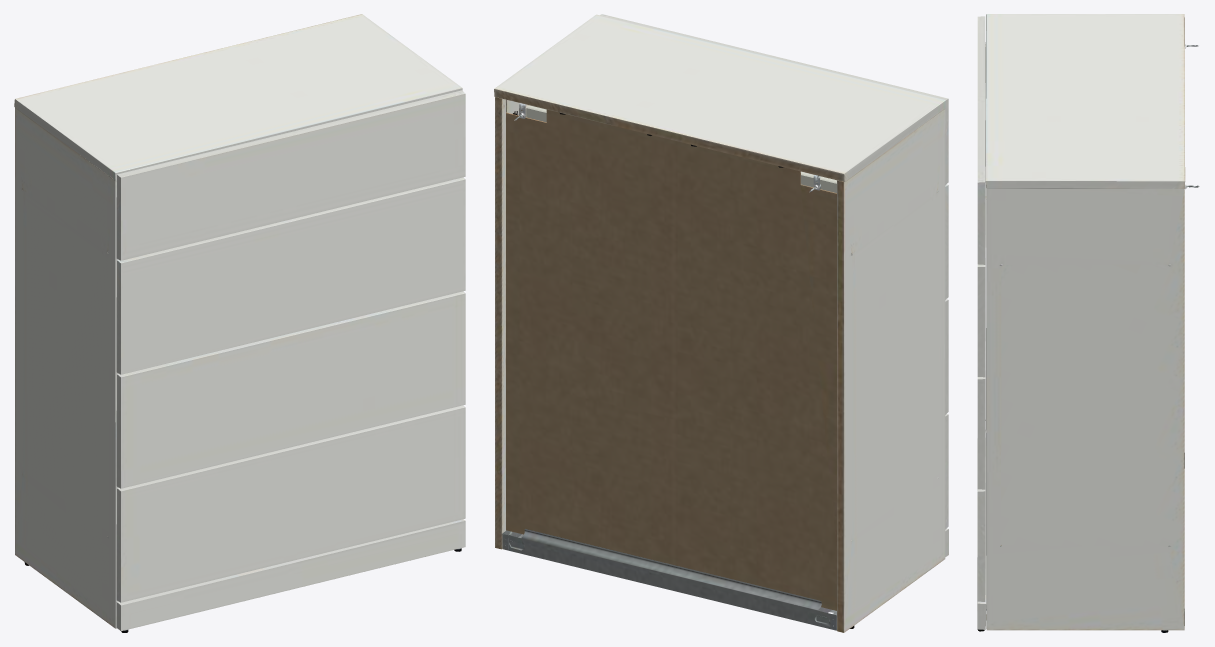
File: 22 - LASTARE Chest of 4 drawers - white 80x42x100 cm.glb
3 renders of one model, left to right at view 1: azimuth 30°, elevation 25°; view 2: azimuth 150°, elevation 25°; view 3: azimuth 270°, elevation 25°, orthographic. The views are drawn at different scales.
Visible parts, largest first — view 1: ASY_ART_60599350_S01_NV01; view 2: ASY_ART_60599350_S01_NV01; view 3: ASY_ART_60599350_S01_NV01.
Part boxes in pixels (<box>): ASY_ART_60599350_S01_NV01: <box>14,14,465,632</box>; ASY_ART_60599350_S01_NV01: <box>494,14,948,632</box>; ASY_ART_60599350_S01_NV01: <box>977,14,1199,632</box>.
Size of the model in its own units: 0.7991 by 1.01 by 0.4506.
Materials: 1 (1 with a texture image).
